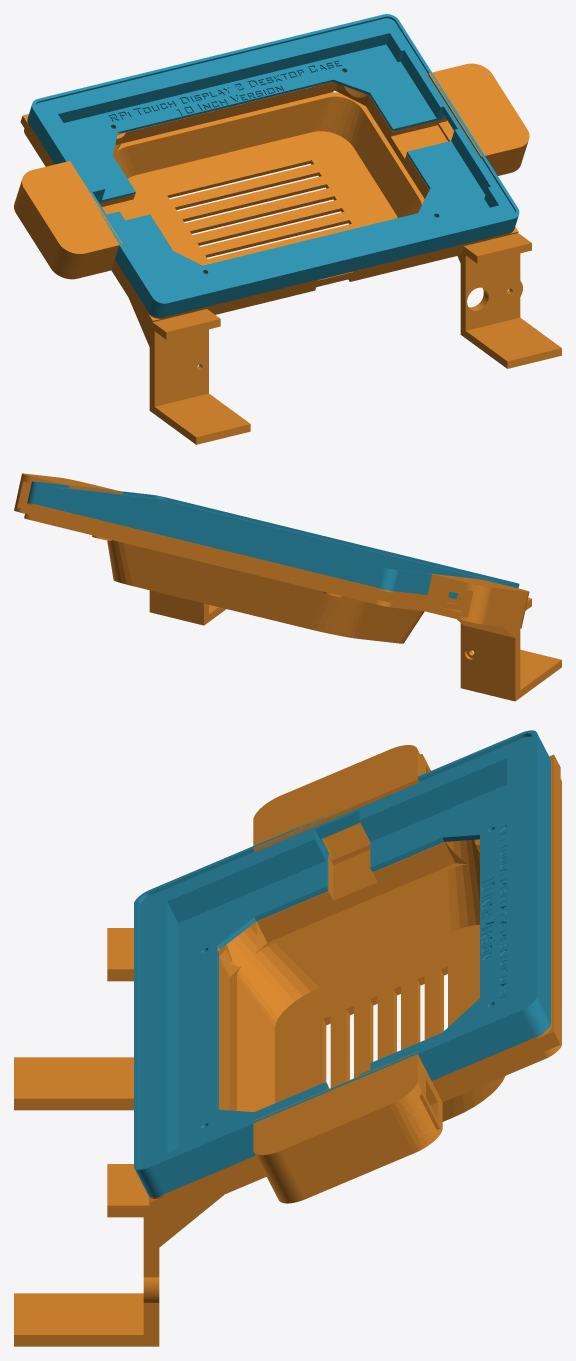
Rendered from piflex-codex-v35-coloured-inspection.glb.
3 renders of one model, top to bottom at view 1: azimuth 30°, elevation 25°; view 2: azimuth 150°, elevation 25°; view 3: azimuth 270°, elevation 25°, orthographic. The views are drawn at different scales.
Parts seen in each view (by area): view 1: V35 rear enclosure and mount, V35 blue screen shell; view 2: V35 rear enclosure and mount, V35 blue screen shell; view 3: V35 rear enclosure and mount, V35 blue screen shell.
Boxes of the visible parts, x1,y1,x2,y2 form: V35 rear enclosure and mount: (14, 63, 561, 444); V35 blue screen shell: (27, 14, 519, 317); V35 rear enclosure and mount: (14, 473, 561, 701); V35 blue screen shell: (27, 481, 519, 599); V35 rear enclosure and mount: (14, 745, 561, 1346); V35 blue screen shell: (134, 730, 550, 1197).
Bounding box in the file's own units: 324 × 146 × 211.
